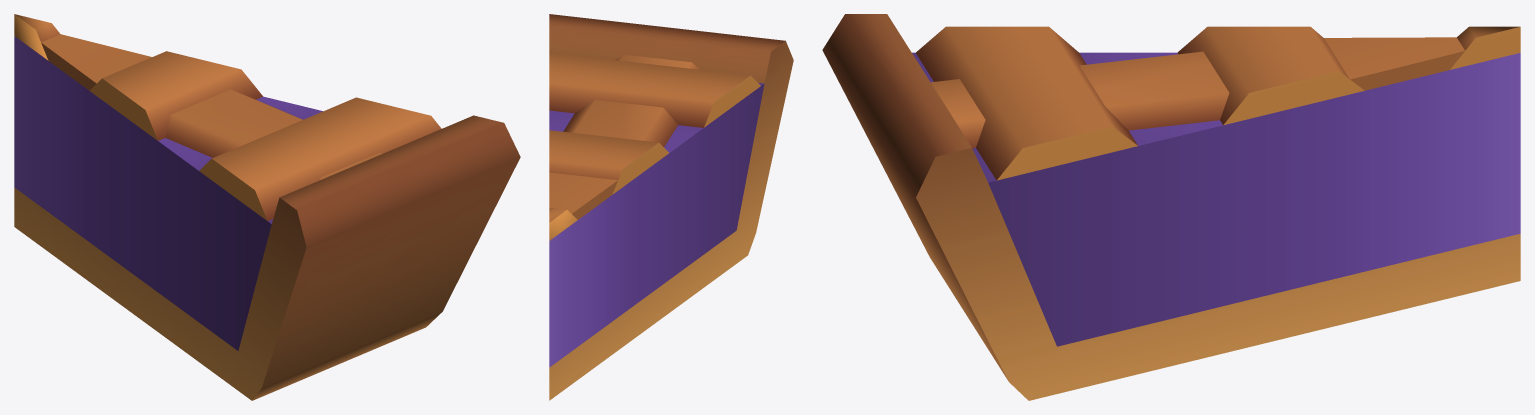
The model's file is m_AmericanPie03_Slice02.fbx.
3 renders of one model, left to right at view 1: azimuth 30°, elevation 25°; view 2: azimuth 150°, elevation 25°; view 3: azimuth 270°, elevation 25°, orthographic. The views are drawn at different scales.
Visible parts, largest first — view 1: m_AmericanPie03_Slice02; view 2: m_AmericanPie03_Slice02; view 3: m_AmericanPie03_Slice02.
Boxes of the visible parts, x1,y1,x2,y2 form: m_AmericanPie03_Slice02: (14, 14, 520, 400); m_AmericanPie03_Slice02: (549, 14, 793, 400); m_AmericanPie03_Slice02: (822, 14, 1520, 400).
Size of the model in its own units: 7 by 5.91 by 14.
